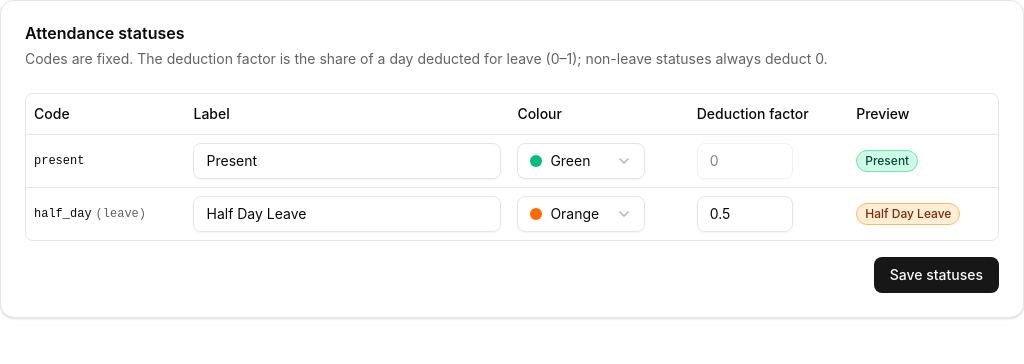
AttendanceStatusesForm › locks the factor for non-leave statuses and validates the range
This screenshot has width=1024, height=364.
Expected: the 1st number field named "Deduction factor for present" is disabled, [697,142,793,178]
Replace the text in the number field named "Deduction factor for half_day" in the row of "half_day" with "1.5" at {"x": 745, "y": 214}, box [697,196,793,232]
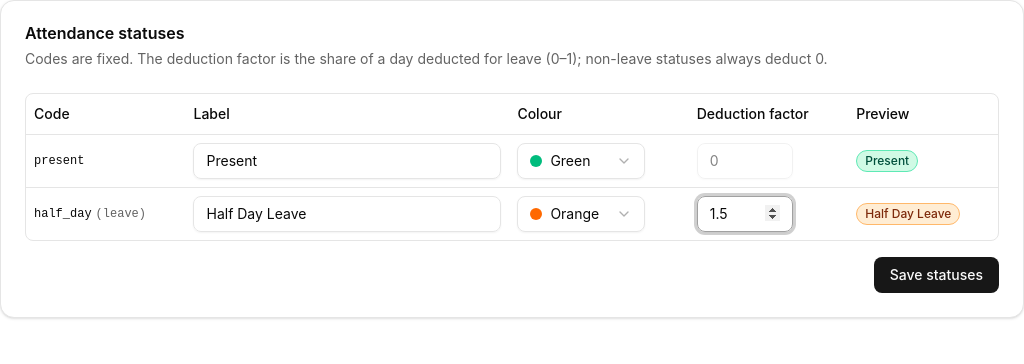
Click the button "Save statuses" at {"x": 936, "y": 274}, box [874,256,999,292]
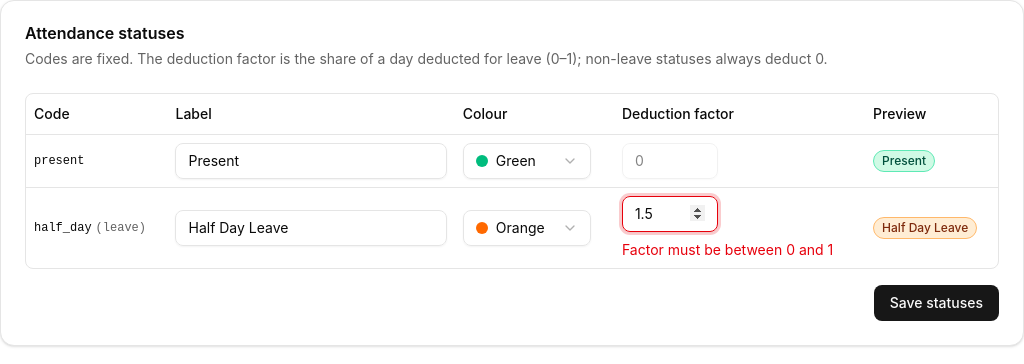
Expected: the text "Factor must be between 0 and 1" is shown, [622,240,857,260]
